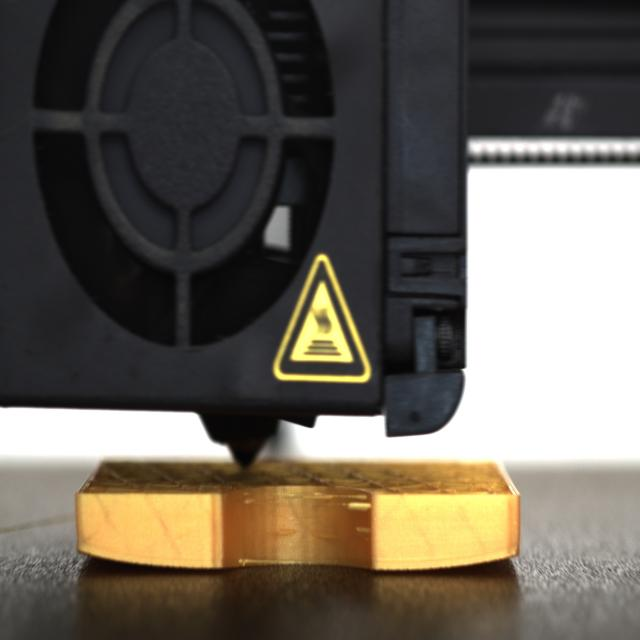Warping: (447, 543, 522, 578), (71, 540, 140, 574)
